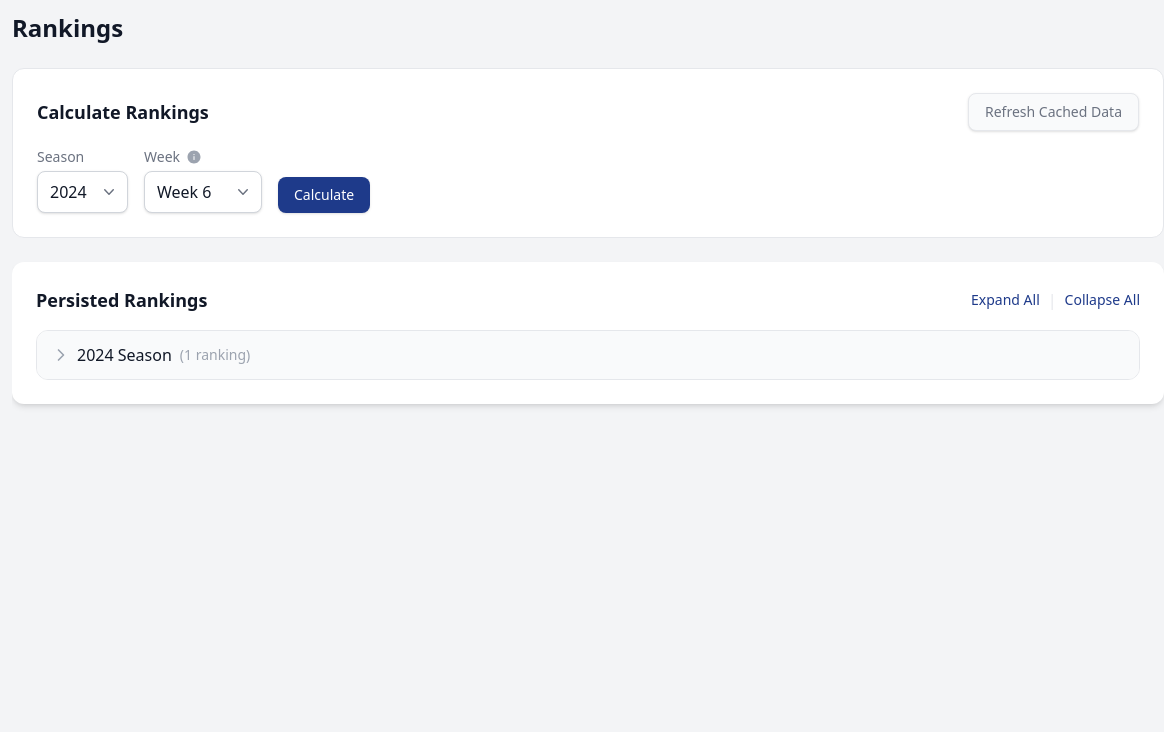
Test: RankingsSnapshotsPage › shows error message after publish fails
The width and height of the screenshot is (1164, 732).
Click the text "2024 Season".
click(124, 355)  # box [77,343,172,367]
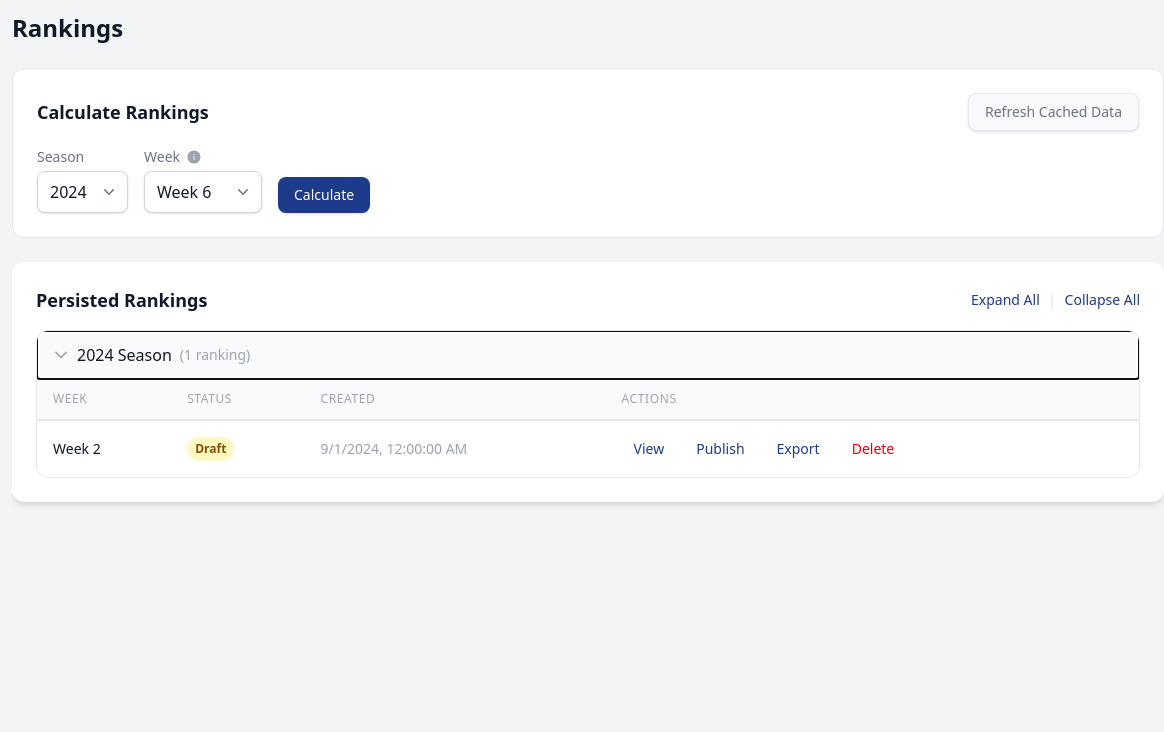
Click the button "Publish".
click(720, 449)  # box [684,433,756,465]
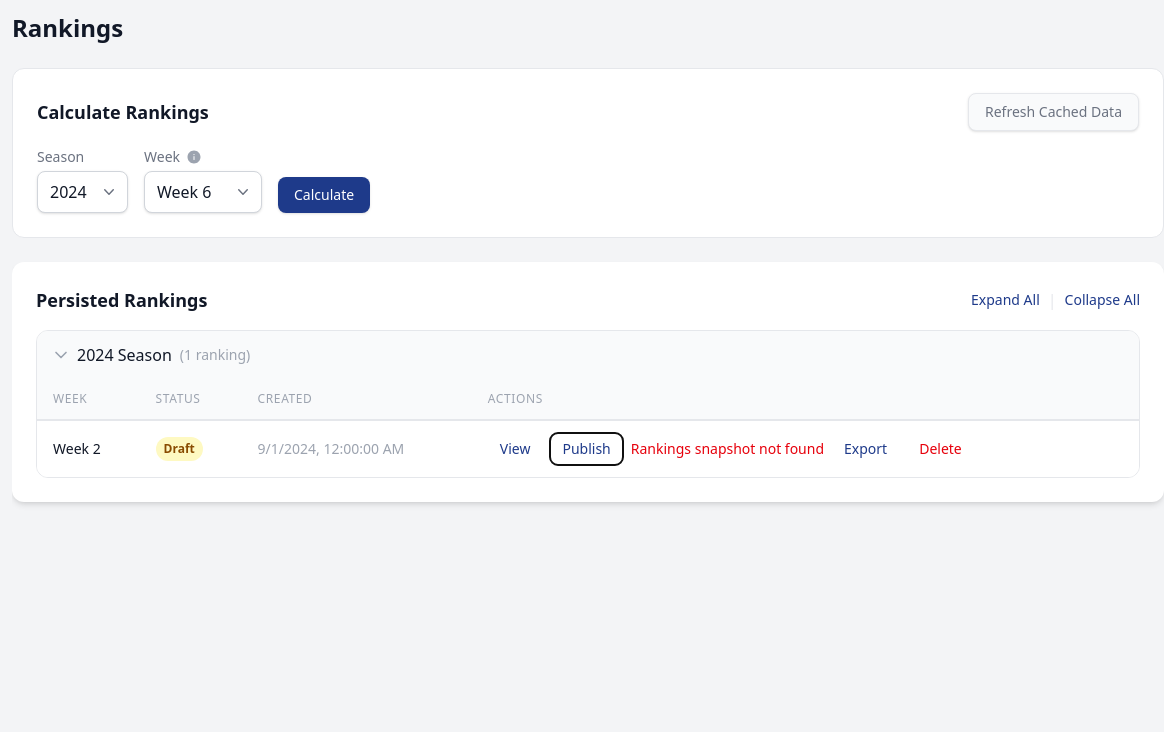
Expected: the text "Rankings snapshot not found" is shown, [631,439,824,459]
